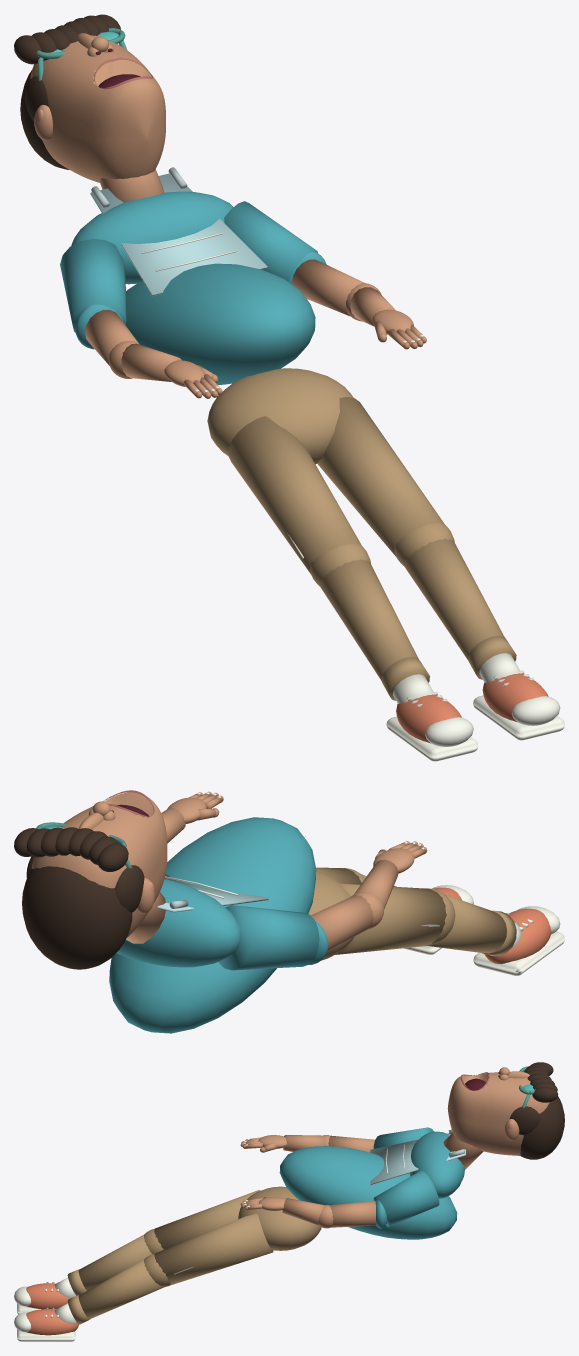
The model's file is patient.glb.
3 views of the same model, one above another, from view 1: azimuth 30°, elevation 25°; view 2: azimuth 150°, elevation 25°; view 3: azimuth 270°, elevation 25° (orthographic). The views are drawn at different scales.
Visible parts, largest first — view 1: Patient chinos, Patient shirt, Patient skin, Warm ivory, Woven dental bib, Patient hair, Patient coral sneakers; view 2: Patient shirt, Patient skin, Patient hair, Patient chinos, Warm ivory, Patient coral sneakers, Woven dental bib; view 3: Patient chinos, Patient shirt, Patient skin, Patient hair, Warm ivory, Patient coral sneakers, Woven dental bib.
Boxes of the visible parts, box(x1,y1,x2,y2) form: Patient chinos: box(207, 368, 516, 700); Patient shirt: box(60, 191, 326, 384); Patient skin: box(30, 33, 426, 398); Warm ivory: box(141, 232, 564, 761); Woven dental bib: box(90, 173, 267, 296); Patient hair: box(14, 14, 120, 169); Patient coral sneakers: box(396, 673, 548, 743); Patient shirt: box(109, 817, 328, 1033); Patient skin: box(31, 791, 427, 950); Patient hair: box(14, 827, 144, 969); Patient chinos: box(308, 867, 516, 960); Warm ivory: box(165, 792, 564, 975); Patient coral sneakers: box(432, 887, 551, 964); Woven dental bib: box(157, 874, 268, 912); Patient chinos: box(67, 1186, 321, 1324); Patient shirt: box(279, 1127, 464, 1239); Patient skin: box(240, 1067, 549, 1228); Patient hair: box(509, 1062, 564, 1159); Warm ivory: box(14, 1139, 405, 1341); Patient coral sneakers: box(26, 1283, 78, 1335); Woven dental bib: box(370, 1133, 465, 1184).
Size of the model in its own units: 0.996 by 1.48 by 2.89.
